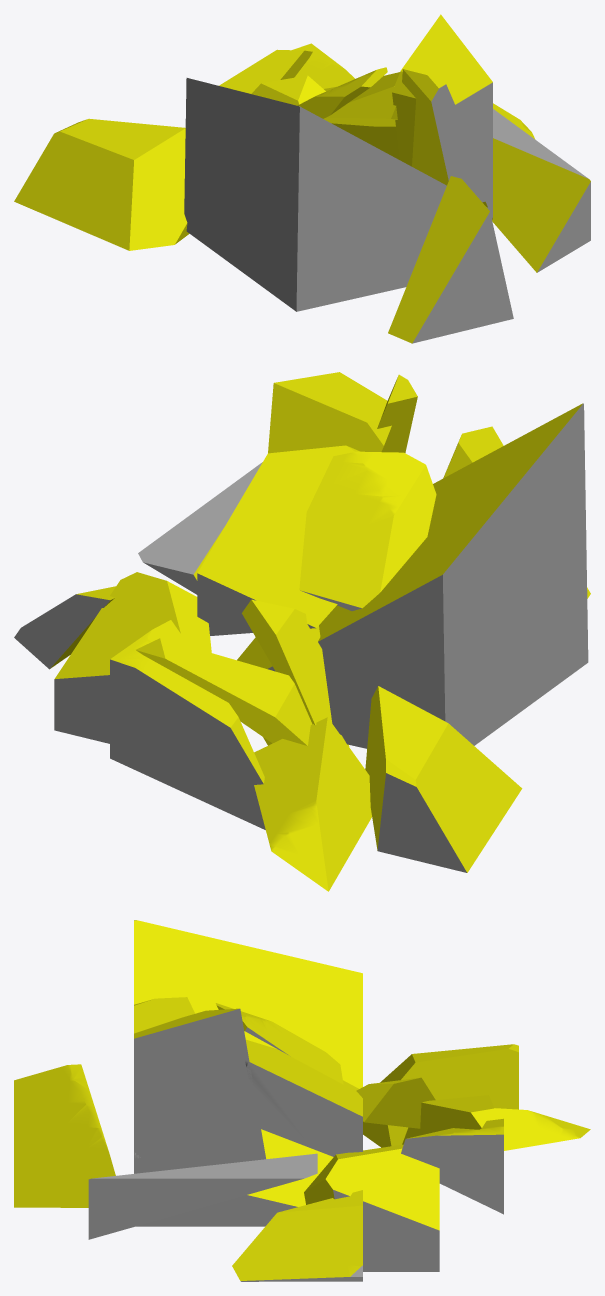
The model's file is Boys_ShatteredCube_01_0201.fbx.
3 renders of one model, top to bottom at view 1: azimuth 30°, elevation 25°; view 2: azimuth 150°, elevation 25°; view 3: azimuth 270°, elevation 25°, orthographic. The views are drawn at different scales.
Parts seen in each view (by area): view 1: solidShatter6; view 2: solidShatter6; view 3: solidShatter6.
Boxes of the visible parts, x1,y1,x2,y2 form: solidShatter6: (14, 14, 590, 343); solidShatter6: (14, 372, 590, 891); solidShatter6: (14, 920, 590, 1281).
Size of the model in its own units: 59.69 by 30.55 by 67.31.
